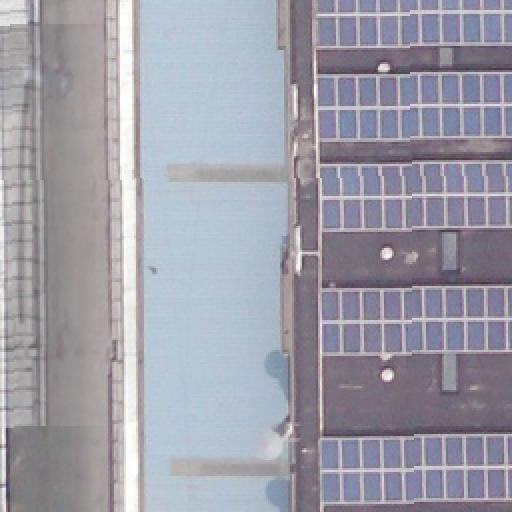solar-panel: (320, 284, 512, 356), (320, 162, 512, 230), (320, 72, 512, 140), (321, 432, 511, 500), (320, 0, 512, 48)
